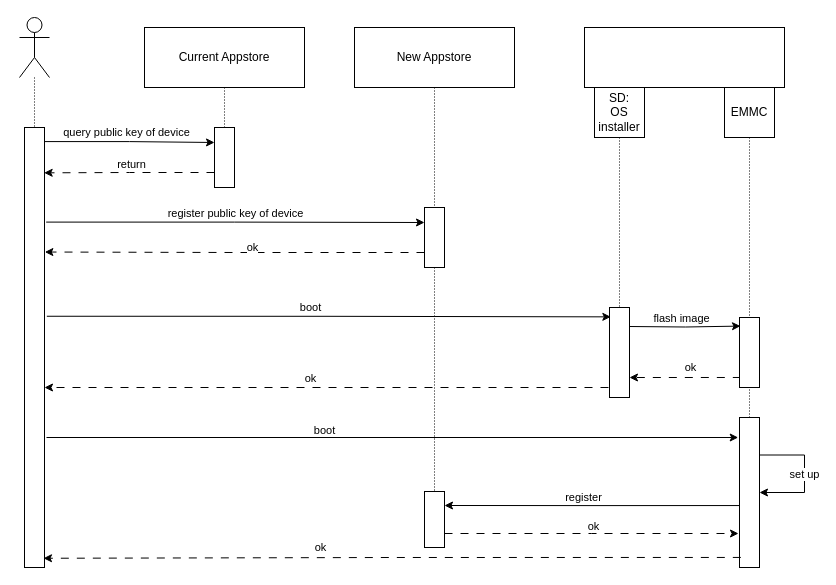
The diagram is 836 pixels wide and 585 high, and some of its shapes have lost their labels. Here are the shapes that lost their labels. From the top down, the centre of each, then its label:
At point (34, 47): "Admin".
At point (684, 57): "Edge Device".
